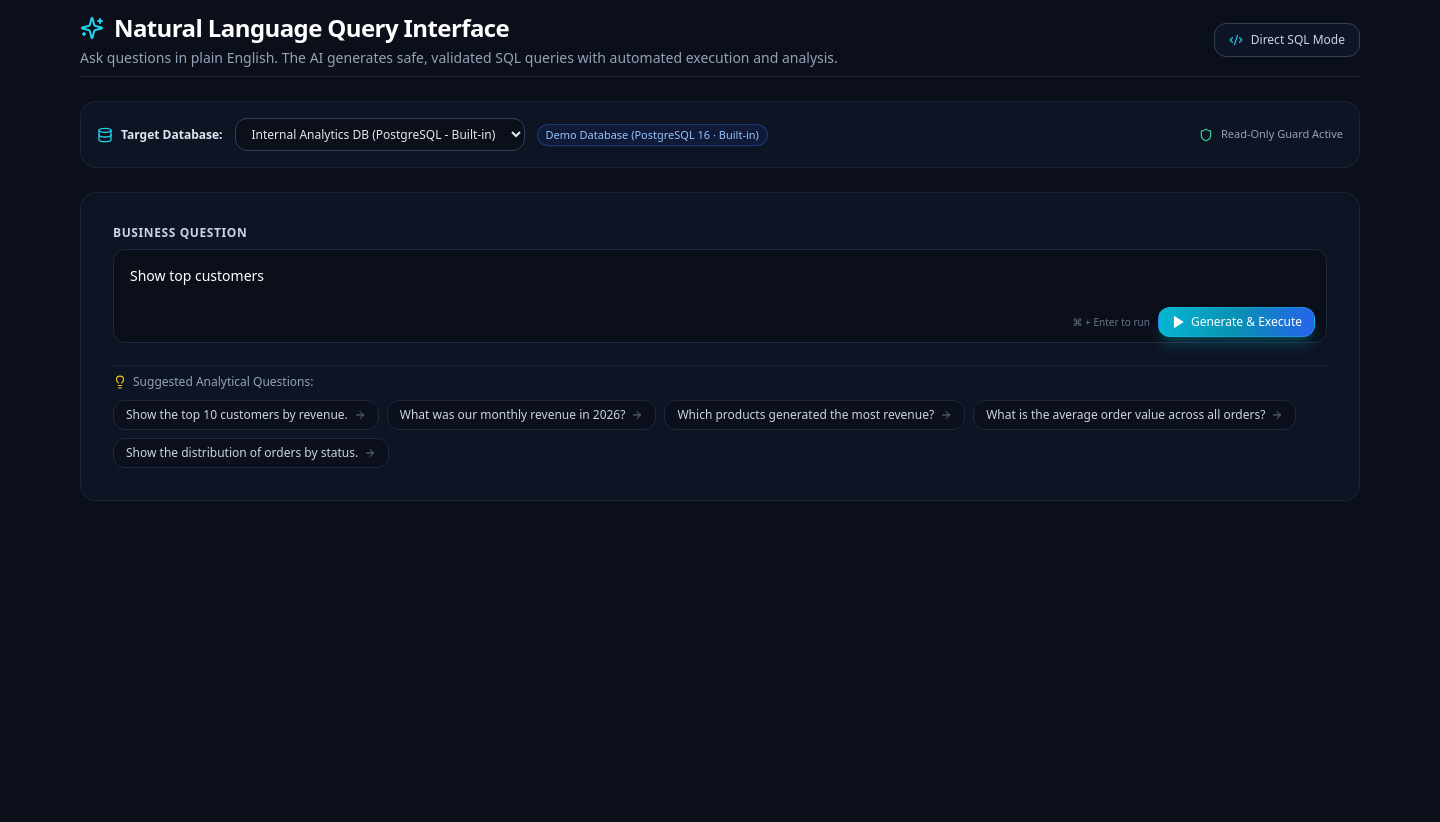
QueryView Component › submits question and renders successful result set and explanation
Click the button "Generate & Execute" at (1236, 322), box 1158,307 -> 1315,337
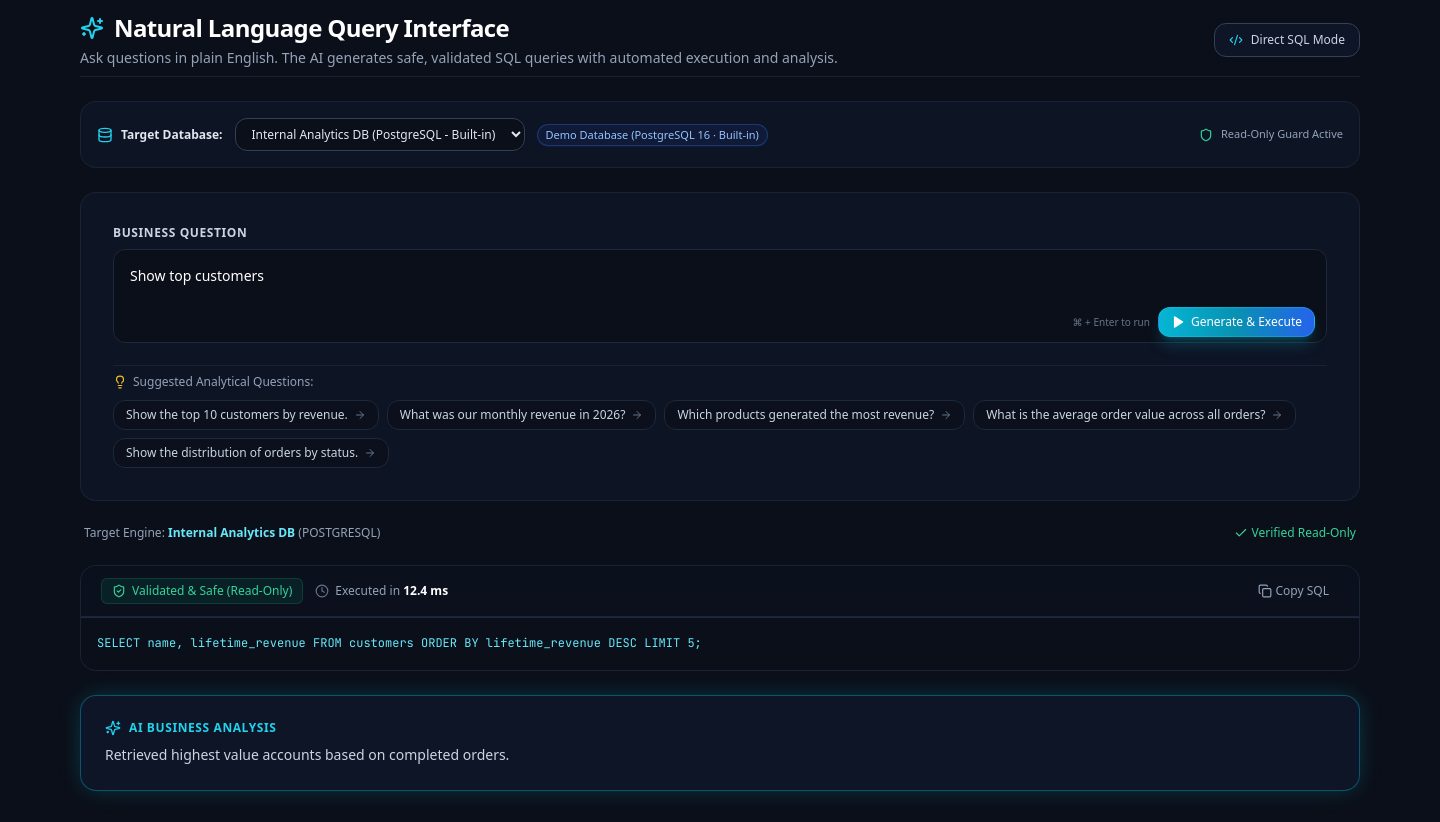
Check: the text "Retrieved highest value accounts based on completed orders." is shown, box 105,744 -> 509,764
